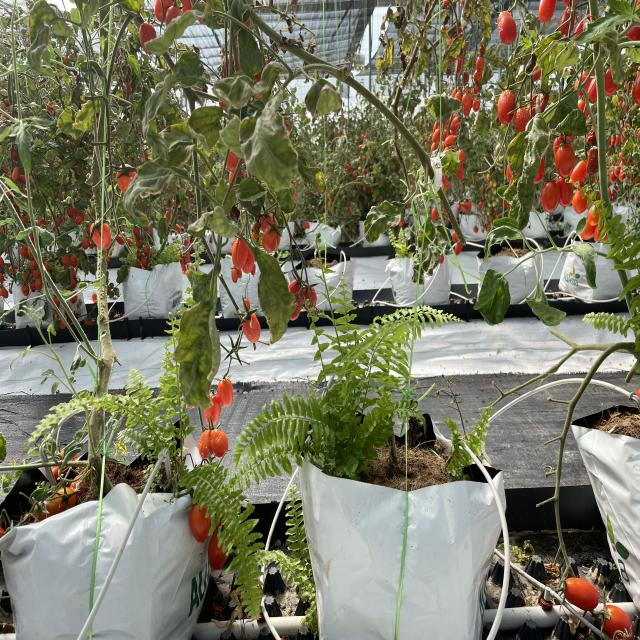Soilbag: (297, 411, 514, 640), (0, 434, 217, 640), (577, 405, 640, 603)
plant: (435, 11, 640, 546), (7, 9, 197, 488)
